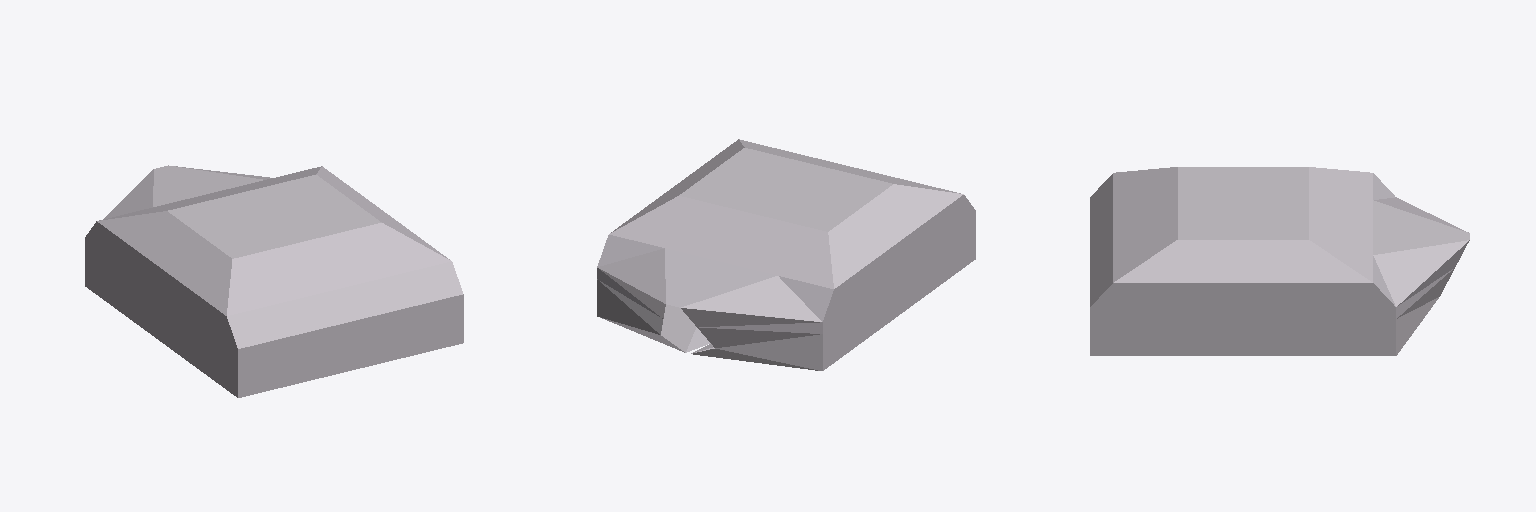
The model's file is turela.obj.
3 renders of one model, left to right at view 1: azimuth 30°, elevation 25°; view 2: azimuth 150°, elevation 25°; view 3: azimuth 270°, elevation 25°, orthographic.
Visible parts, largest first — view 1: Cube.001; view 2: Cube.001; view 3: Cube.001.
Boxes of the visible parts, box(x1,y1,x2,y2) form: Cube.001: box(85, 165, 463, 397); Cube.001: box(597, 139, 975, 370); Cube.001: box(1090, 167, 1469, 355).
Size of the model in its own units: 0.5773 by 0.258 by 0.8412.